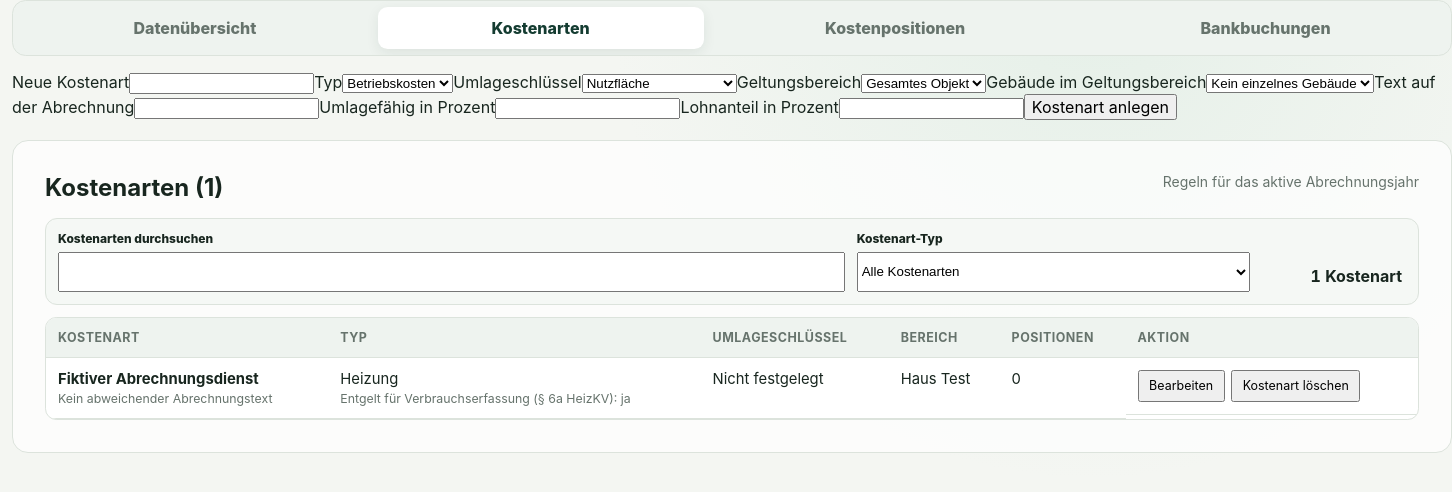
Scenario: Rechnungsangaben und Art des Entgelts (ADR-0015) › bietet die Art des Entgelts nur bei Heizung an
expect the field labelled "Art des Entgelts" is not shown: met
Select "Heizung" in the dropdown labelled "Typ". click: (398, 84)
box: top-left (342, 74), bottom-right (453, 93)
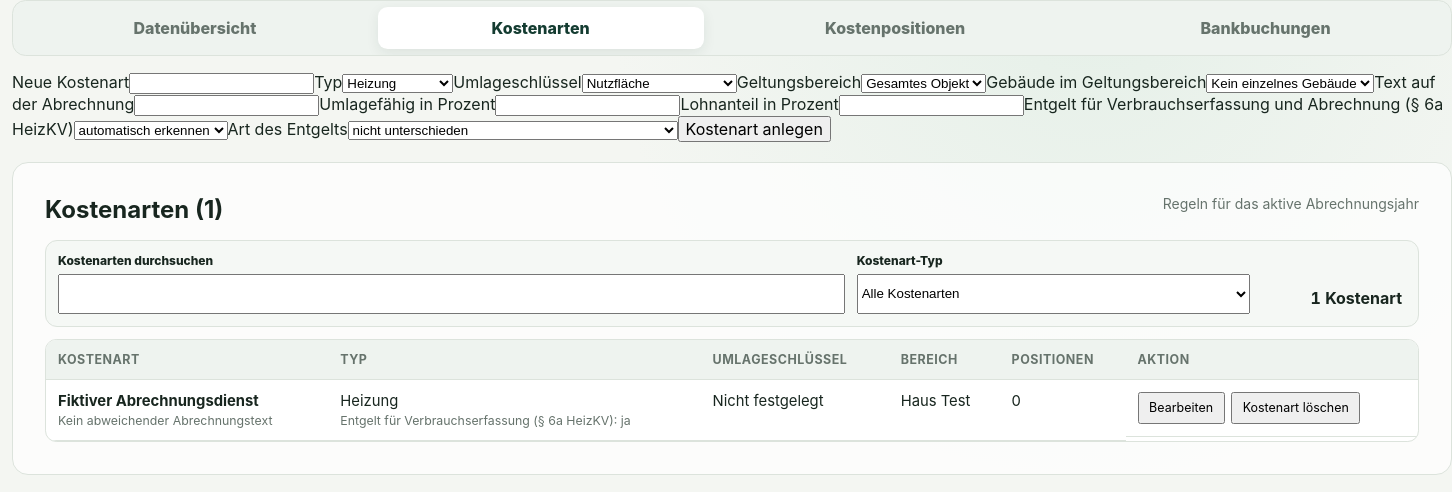
expect the dropdown labelled "Art des Entgelts" shows "nicht unterschieden": met, box top-left (348, 121), bottom-right (678, 140)
